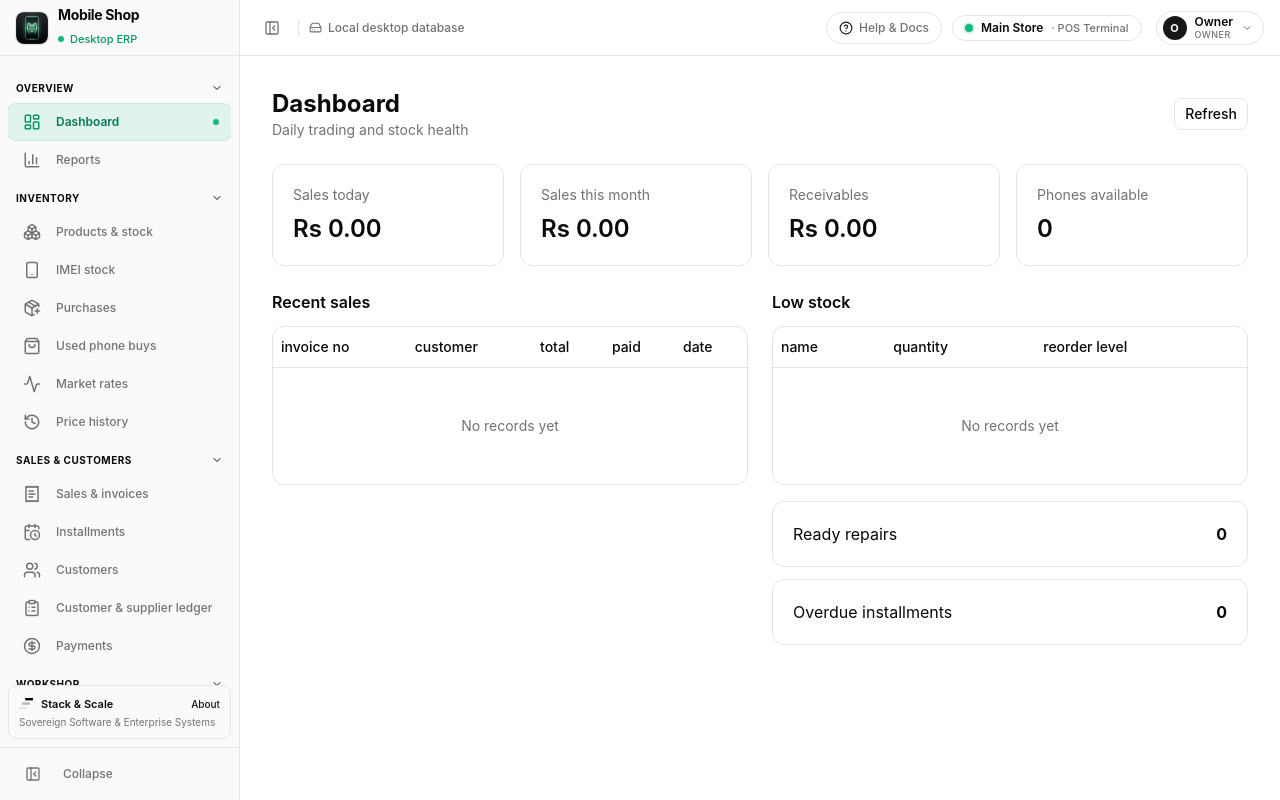
it: desktop interface › does not show records from a previous screen after rapid navigation
Check: the text "Sales today" is shown, box [293,186,370,203]
Click the button "Products & stock".
click(120, 232)  # box [8,214,231,250]
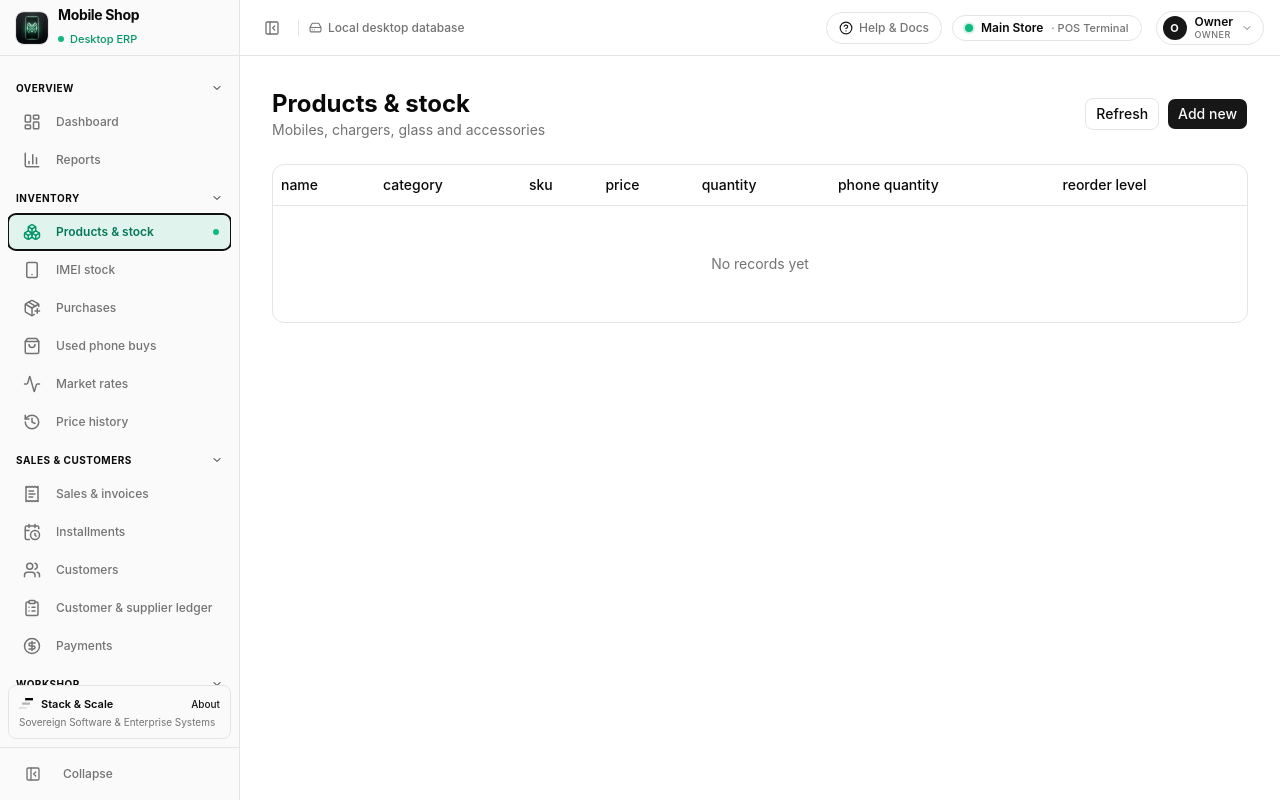
Click the button "Sales & invoices".
click(120, 494)  # box [8,476,231,512]
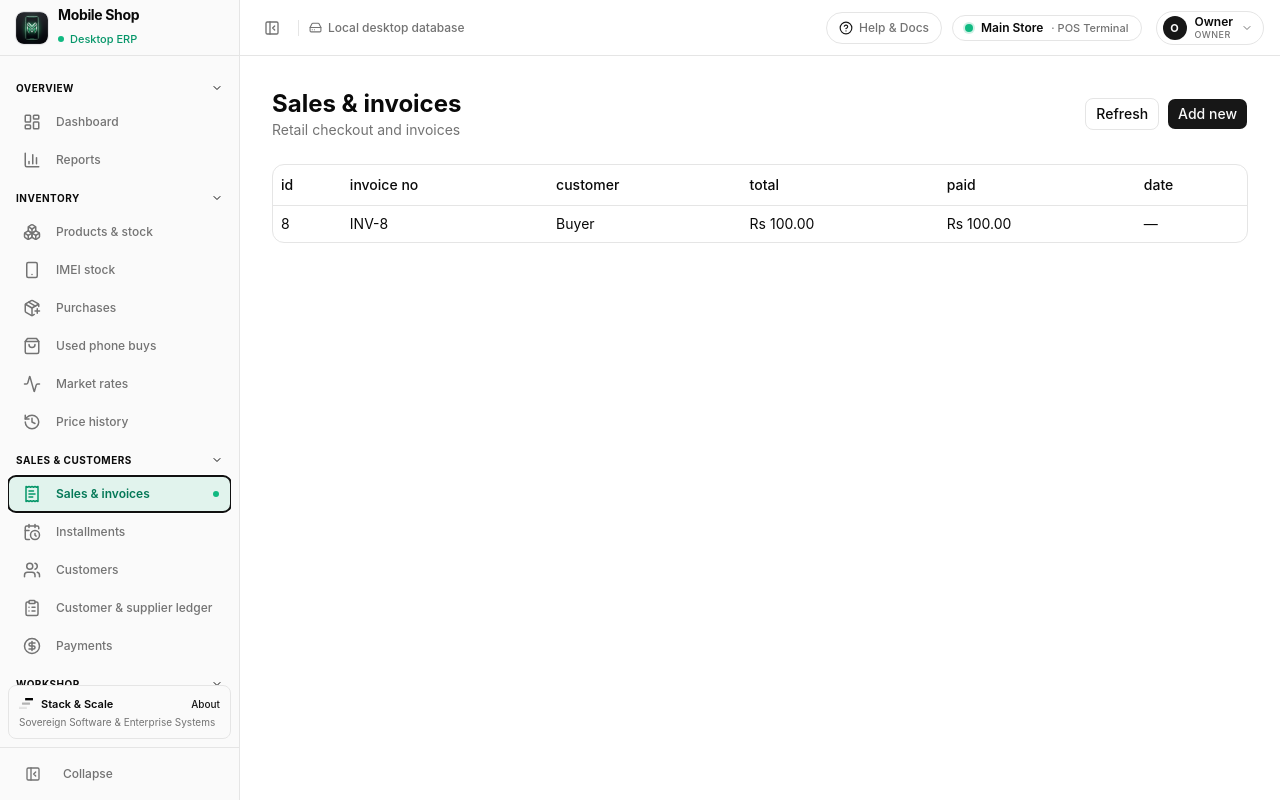
Check: the heading "Sales & invoices" is shown, box [272,88,462,120]
Check: the text "INV-8" is shown, box [342,205,548,242]
